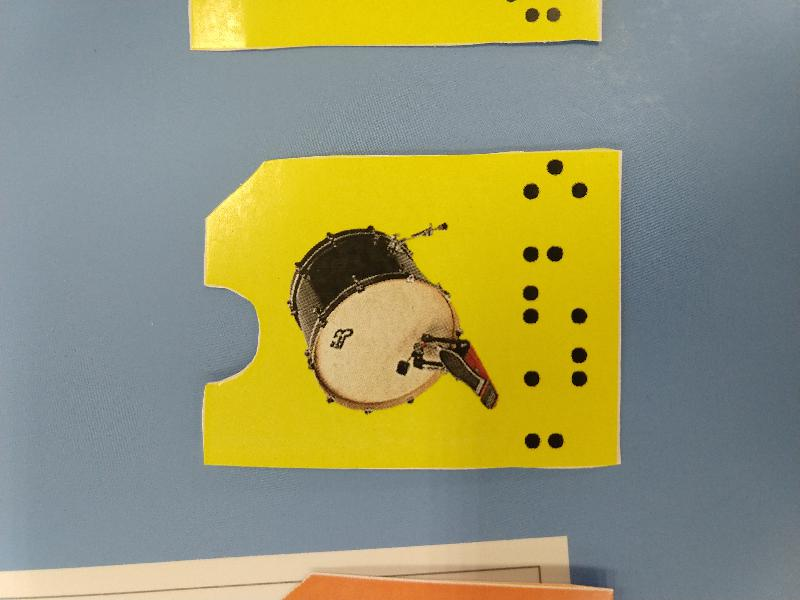bumbo: (202, 145, 624, 472)
